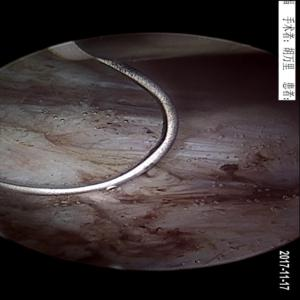film: (109, 153, 286, 221)
